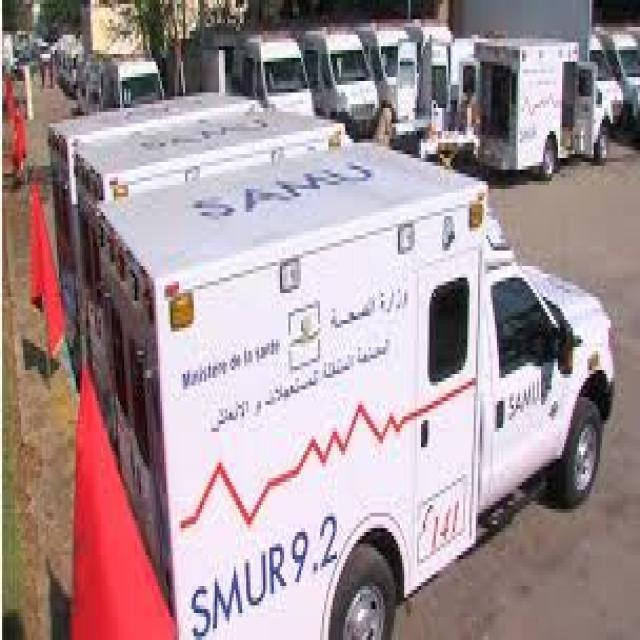ambulance: (79, 130, 639, 640)
